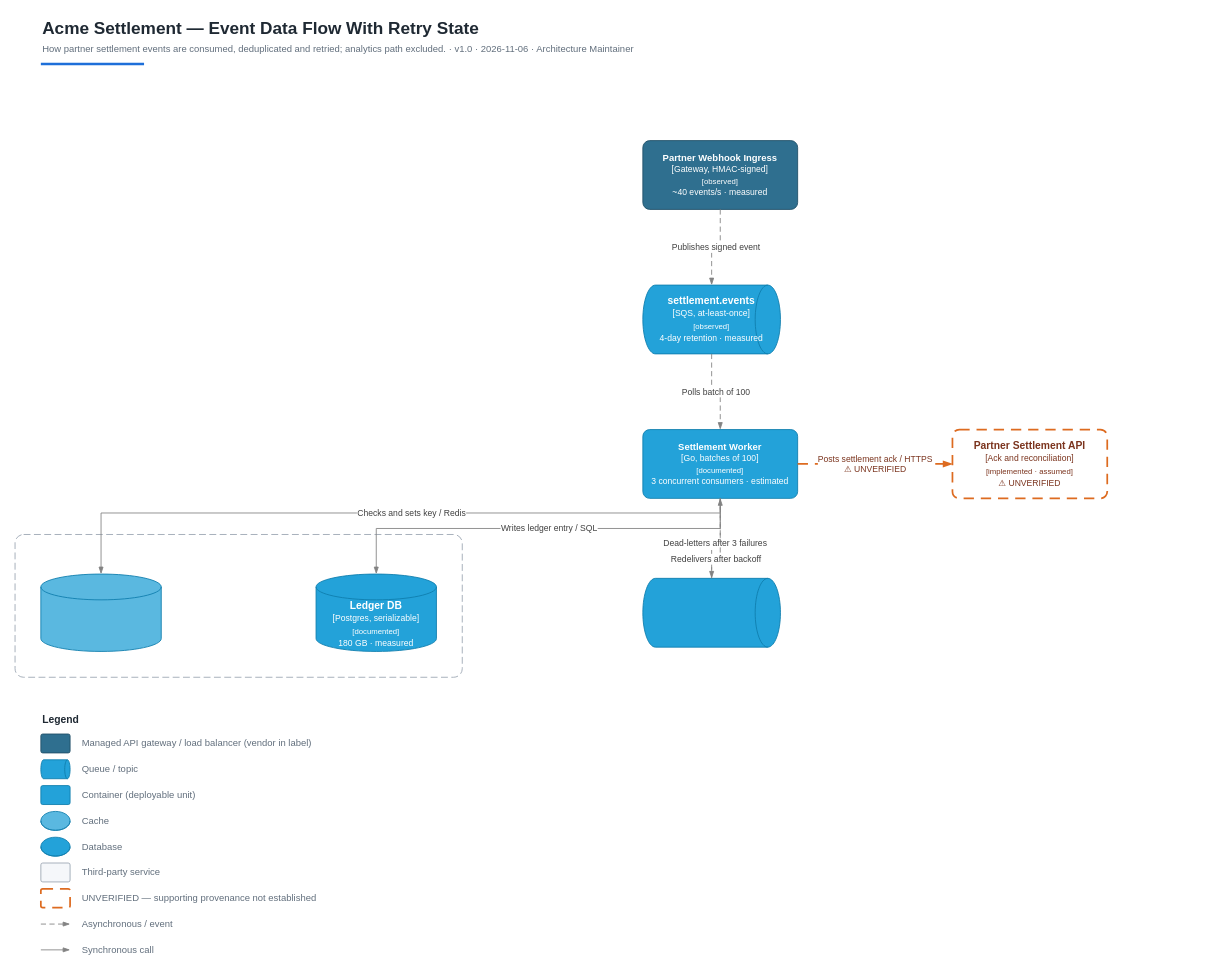
This 1208x974 diagram has some shape labels left out. Each missing label, with the box of its shape:
Idempotency Key Store [Redis, 7-day TTL] [documented]: (40, 573, 161, 651)
Retry and DLQ [3 attempts, exponential backoff] [observed]: (642, 577, 780, 647)
Settlement data boundary: (14, 534, 462, 677)
